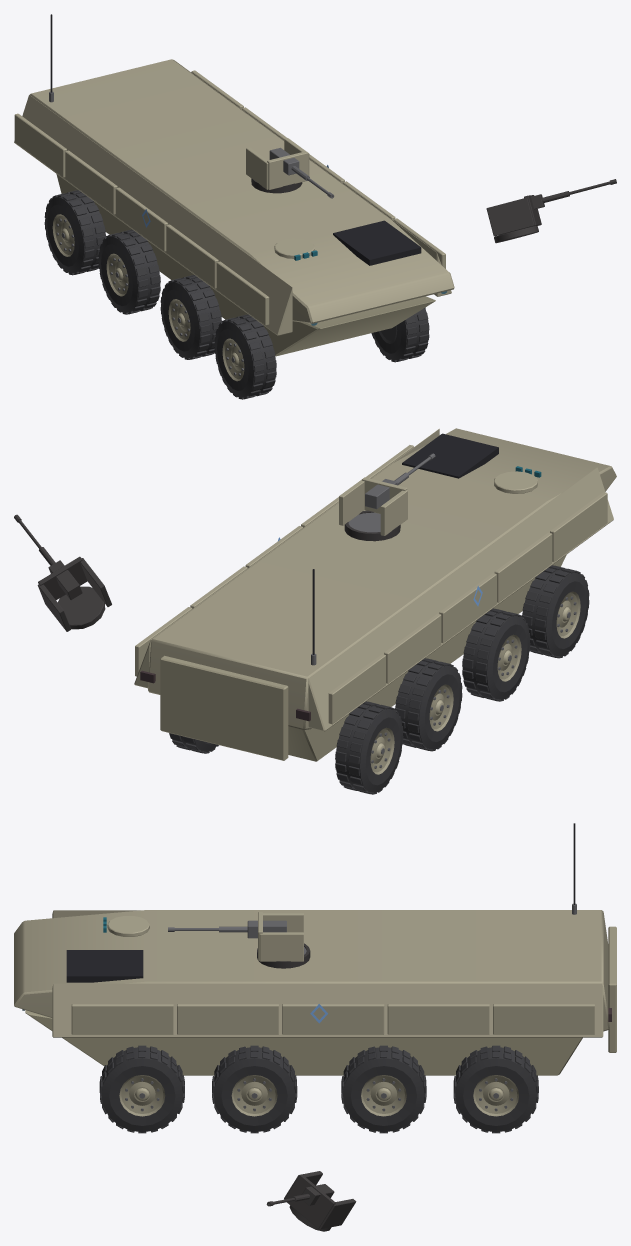
Rendered from apc__type_96_apc.glb.
3 views of the same model, one above another, from view 1: azimuth 30°, elevation 25°; view 2: azimuth 150°, elevation 25°; view 3: azimuth 270°, elevation 25° (orthographic). The views are drawn at different scales.
Visible parts, largest first — view 1: Hull_Mesh, Wheel_L3_Mesh, Wheel_L1_Mesh, Wheel_L2_Mesh, Wheel_L0_Mesh, Wreck, Wheel_R3_Mesh, Turret_Mesh, Gun_Mesh; view 2: Hull_Mesh, Wheel_L0_Mesh, Wheel_L2_Mesh, Wheel_L3_Mesh, Wheel_L1_Mesh, Wreck, Turret_Mesh, Gun_Mesh, Wheel_R0_Mesh; view 3: Hull_Mesh, Wheel_R1_Mesh, Wheel_R2_Mesh, Wheel_R3_Mesh, Wheel_R0_Mesh, Wreck, Turret_Mesh, Gun_Mesh.
Part boxes in pixels (<box>): Hull_Mesh: <box>14,14,454,356</box>; Wheel_L3_Mesh: <box>214,314,276,399</box>; Wheel_L1_Mesh: <box>98,229,160,314</box>; Wheel_L2_Mesh: <box>160,275,222,359</box>; Wheel_L0_Mesh: <box>44,190,106,275</box>; Wreck: <box>74,178,616,397</box>; Wheel_R3_Mesh: <box>371,307,429,362</box>; Turret_Mesh: <box>246,138,309,189</box>; Gun_Mesh: <box>269,147,334,198</box>; Hull_Mesh: <box>134,428,616,761</box>; Wheel_L0_Mesh: <box>335,701,403,794</box>; Wheel_L2_Mesh: <box>462,608,530,701</box>; Wheel_L3_Mesh: <box>521,565,589,658</box>; Wheel_L1_Mesh: <box>394,658,462,751</box>; Wreck: <box>14,510,565,790</box>; Turret_Mesh: <box>339,477,407,535</box>; Gun_Mesh: <box>365,453,435,508</box>; Wheel_R0_Mesh: <box>169,733,218,753</box>; Hull_Mesh: <box>14,823,616,1075</box>; Wheel_R1_Mesh: <box>341,1045,426,1133</box>; Wheel_R2_Mesh: <box>212,1045,297,1133</box>; Wheel_R3_Mesh: <box>99,1045,184,1133</box>; Wheel_R0_Mesh: <box>453,1045,538,1133</box>; Wreck: <box>116,943,475,1231</box>; Turret_Mesh: <box>258,912,306,961</box>; Gun_Mesh: <box>168,920,286,938</box>.
Size of what is drawn, in the model's own units: 6.32 by 3.03 by 7.09.
